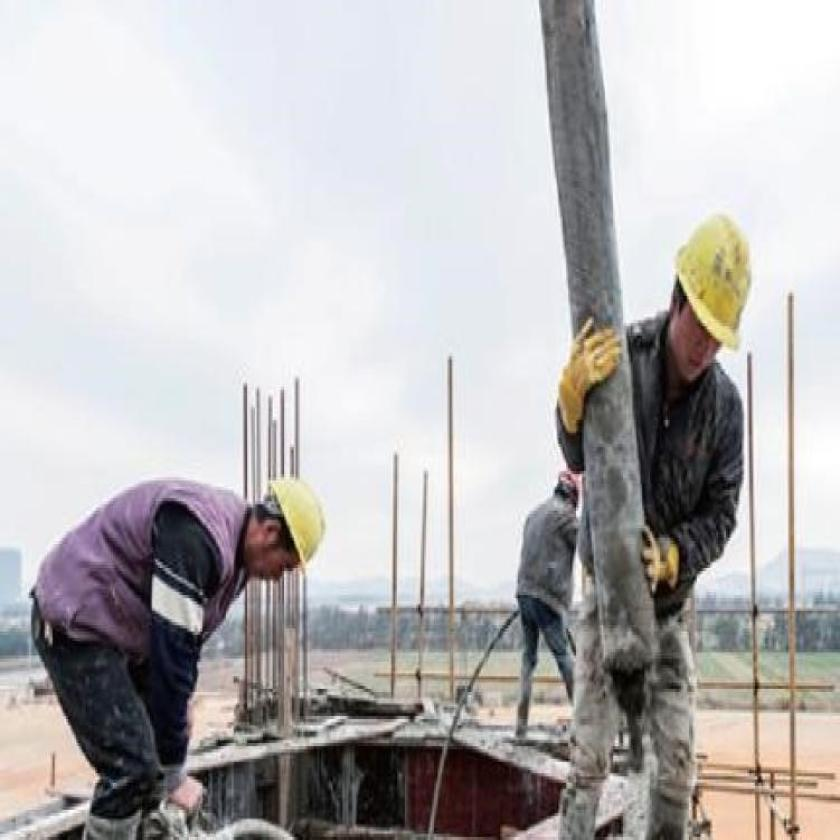Con_casco: (666, 210, 753, 379), (242, 470, 328, 590)
